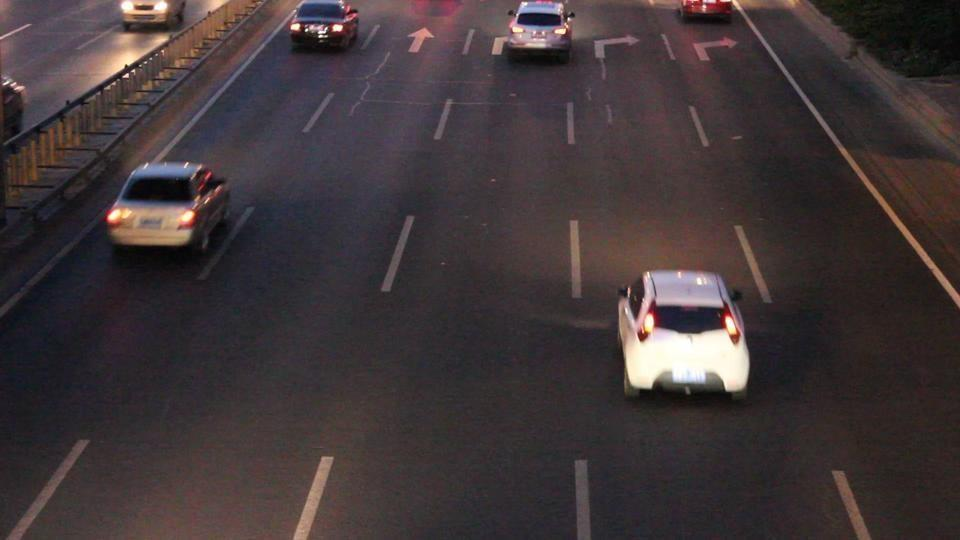car: (615, 268, 751, 401), (104, 162, 232, 256), (503, 0, 574, 64), (289, 0, 360, 51), (118, 1, 187, 32), (0, 75, 28, 141), (677, 0, 735, 22)
